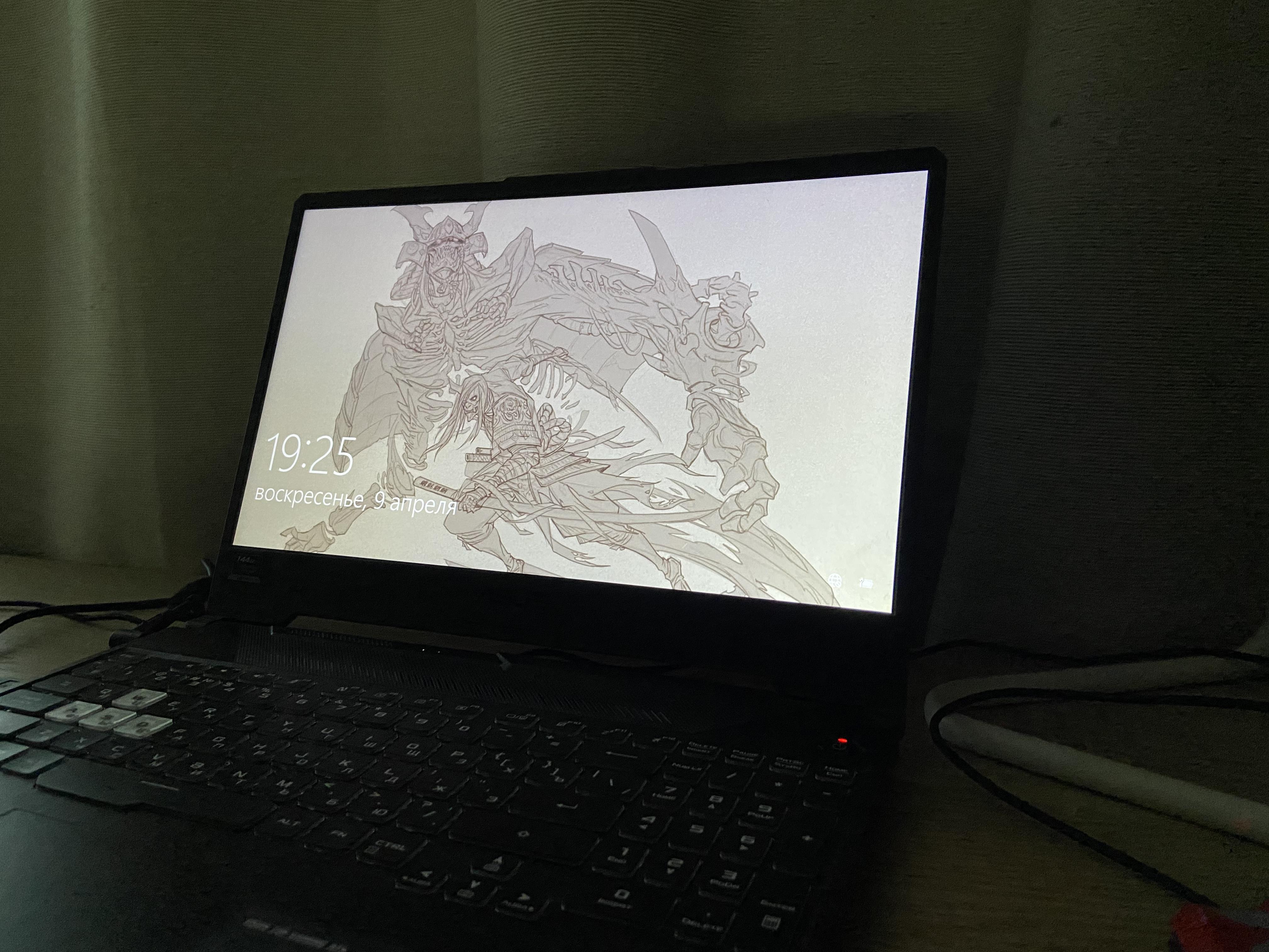monitor: (212, 139, 952, 699)
